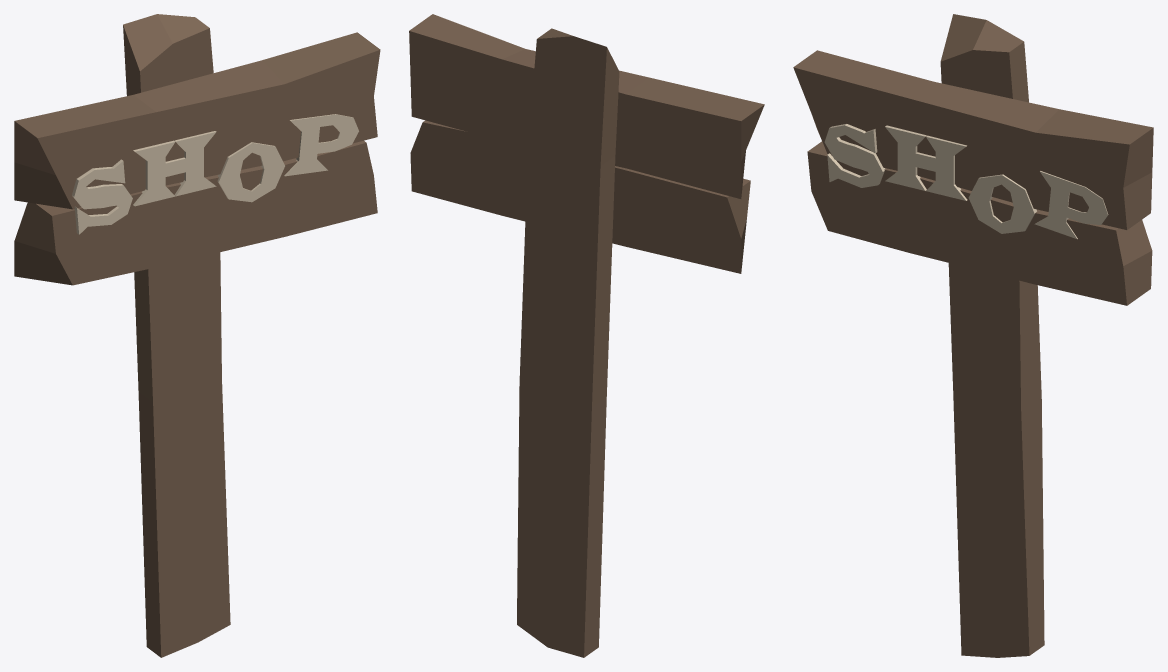
Rendered from Sign_Shop.fbx.
3 renders of one model, left to right at view 1: azimuth 30°, elevation 25°; view 2: azimuth 150°, elevation 25°; view 3: azimuth 330°, elevation 25°, orthographic.
Parts seen in each view (by area): view 1: Sign_Shop; view 2: Sign_Shop; view 3: Sign_Shop.
Part boxes in pixels (<box>): Sign_Shop: <box>14,14,380,657</box>; Sign_Shop: <box>409,14,764,657</box>; Sign_Shop: <box>793,14,1153,657</box>.
Bounding box in the file's own units: 80.8 × 16.52 × 143.
